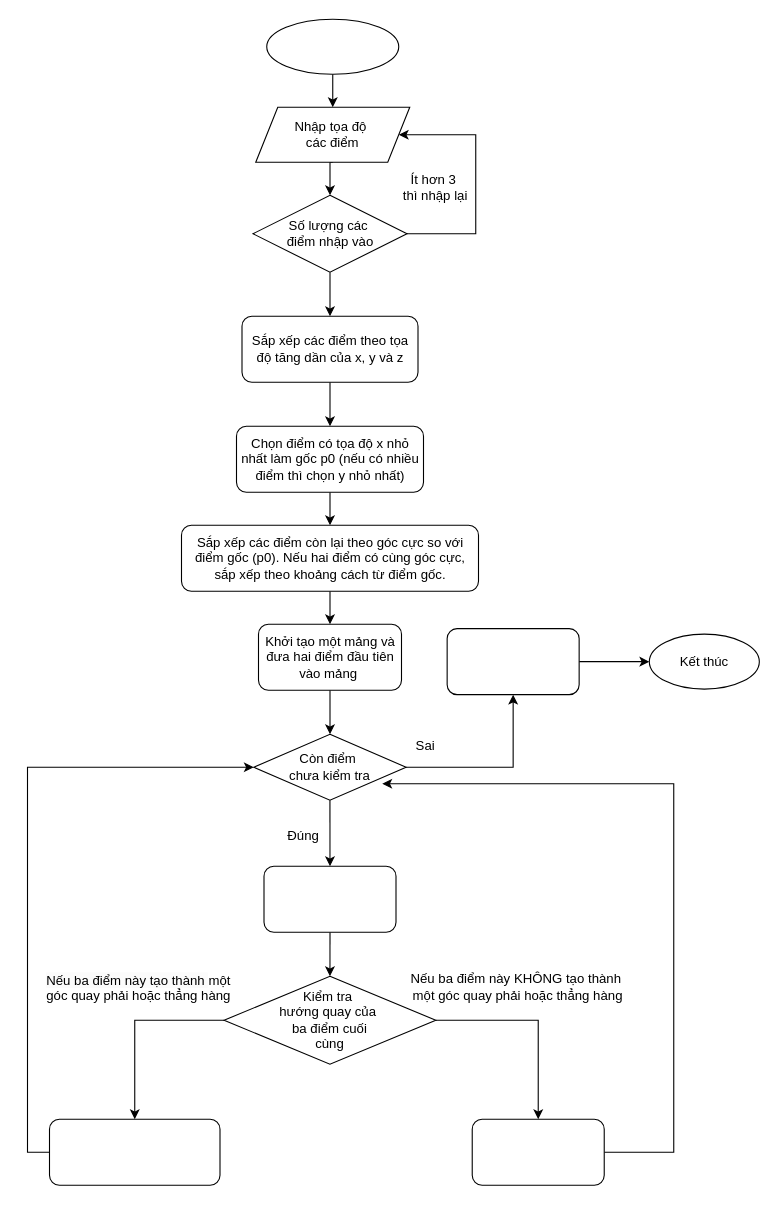
Image size: 779x1205. Some labels were removed from this diagram. The shapes that lost their labels are listed below. From the top down, each one's centre as x and y in pixels, then its label:
the point at 332,46: Bắt đầu
the point at 512,661: Xuất ra kết quả
the point at 329,898: Bổ sung điểm thứ 3
the point at 134,1151: Đưa điểm thứ nhất vào mảng kết quả, giữ 2 điểm còn lại xét tiếp
the point at 537,1151: Loại bỏ điểm ở giữa.
